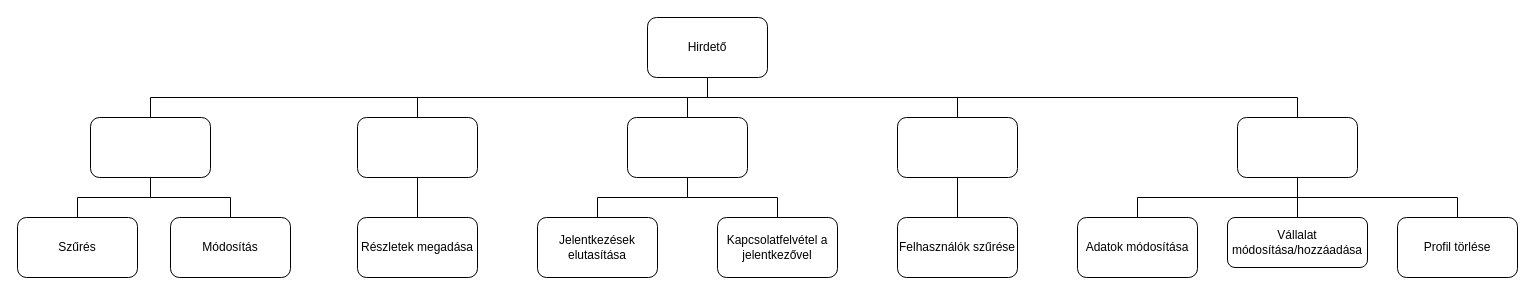
This 1535x295 diagram has some shape labels left out. The shapes that lost their labels are listed below. From the top down, each one's box as (x1, y1, x2, y2) in pixels, then its label:
(90, 116, 210, 178): Hirdetés módosítása
(356, 116, 478, 178): Hirdetés létrehozása
(626, 116, 748, 178): Állásjelentkezések megtekintése
(896, 116, 1018, 178): Felhasználó keresése
(1236, 116, 1358, 178): Profil módosítása
